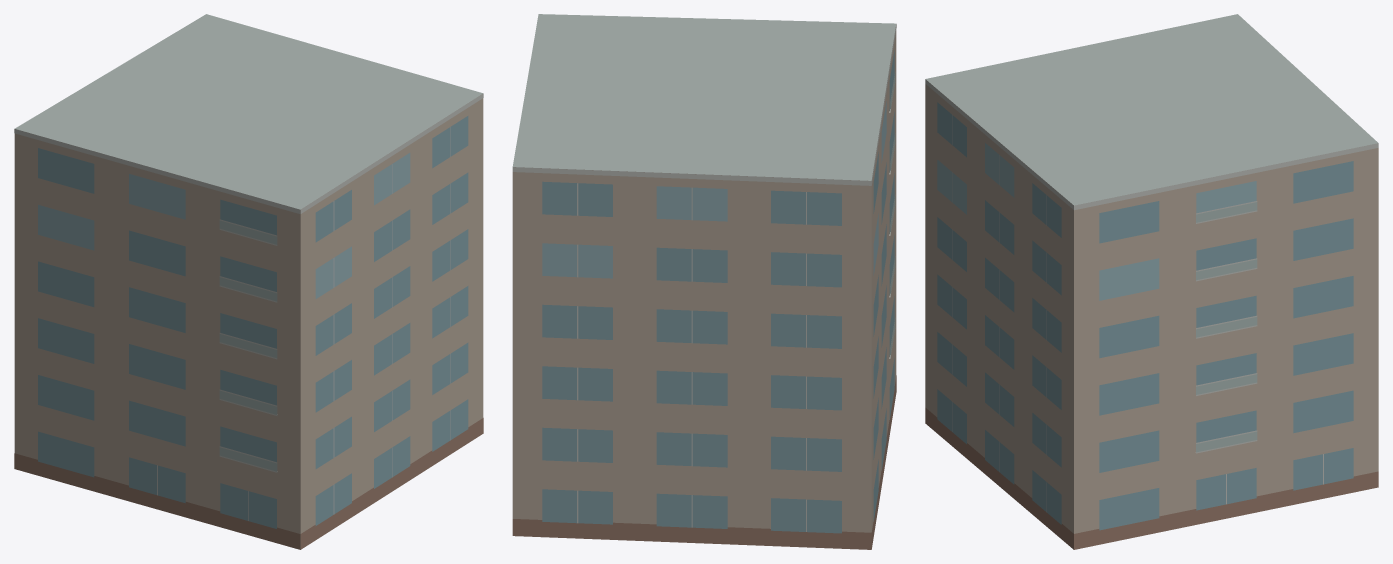
The model's file is survey-upis-32726822.glb.
3 views of the same model, side by side, from view 1: azimuth 30°, elevation 25°; view 2: azimuth 150°, elevation 25°; view 3: azimuth 270°, elevation 25° (orthographic). The views are drawn at different scales.
Parts seen in each view (by area): view 1: survey-upis-32726822.tmp; view 2: survey-upis-32726822.tmp; view 3: survey-upis-32726822.tmp.
Part boxes in pixels (<box>): survey-upis-32726822.tmp: <box>14,14,483,549</box>; survey-upis-32726822.tmp: <box>512,14,896,549</box>; survey-upis-32726822.tmp: <box>925,14,1378,549</box>.
Size of the model in its own units: 21.49 by 18 by 21.49.
